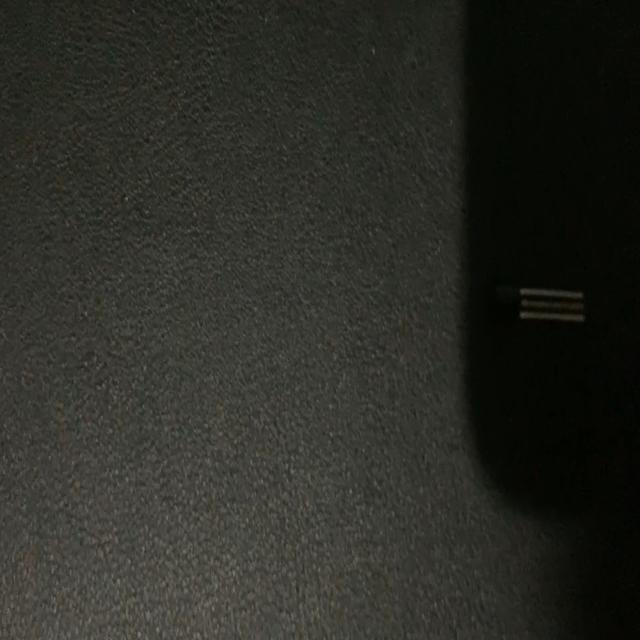BJT: (484, 261, 590, 354)
